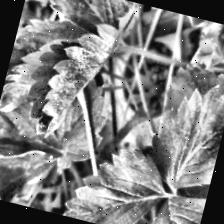Powdery Mildew Leaf: (17, 9, 123, 150)
